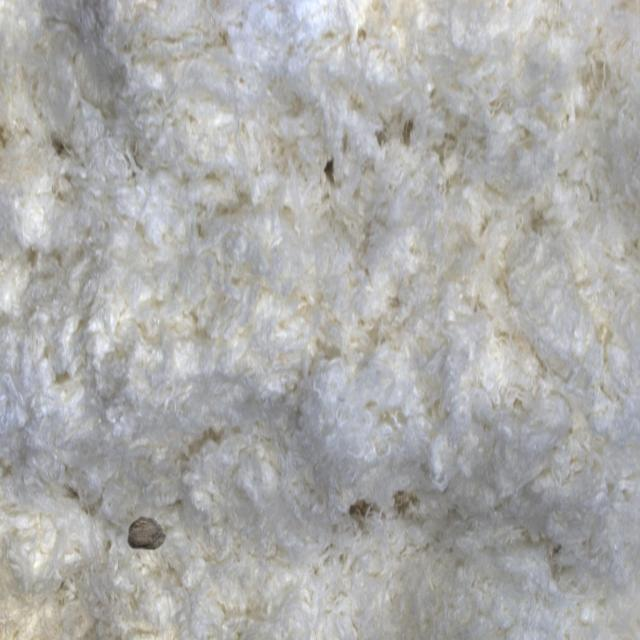dust: (108, 461, 197, 587)
